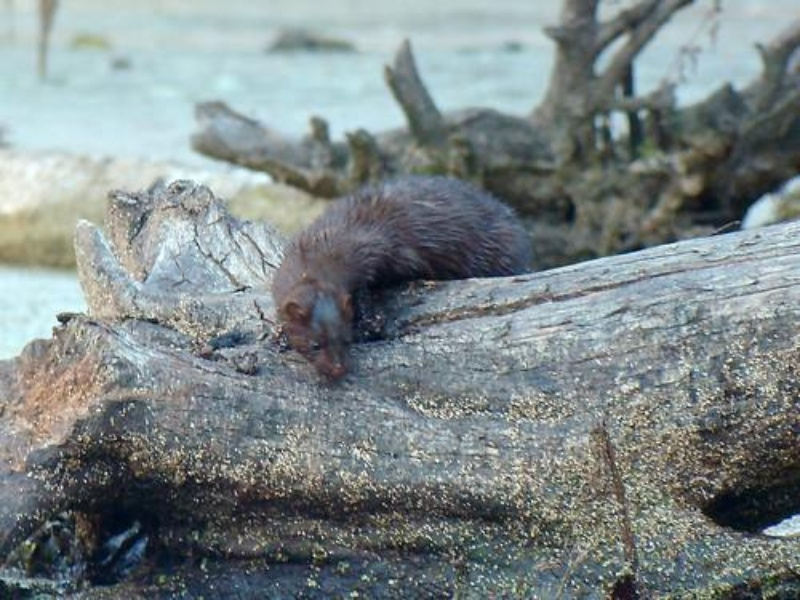minkish: (270, 173, 533, 378)
